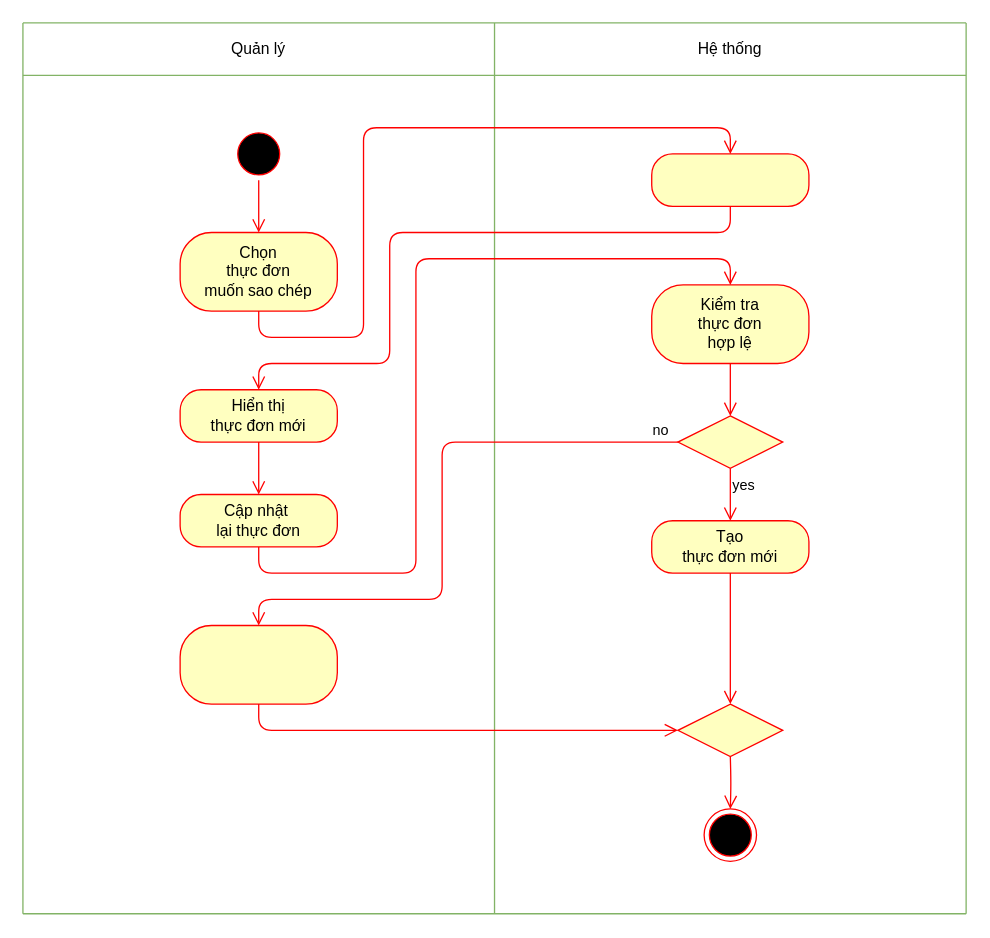
Image size: 990x938. Some labels were removed from this diagram. Each missing label, with the box of its shape:
Sao chép thực đơn: (650, 153, 809, 206)
Thông báo thông tin không hợp lệ: (179, 624, 337, 704)
